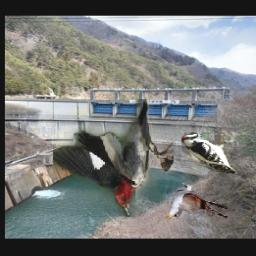Cuckoo: (165, 184, 227, 219)
Woodpecker: (52, 100, 173, 218), (180, 132, 236, 174)
